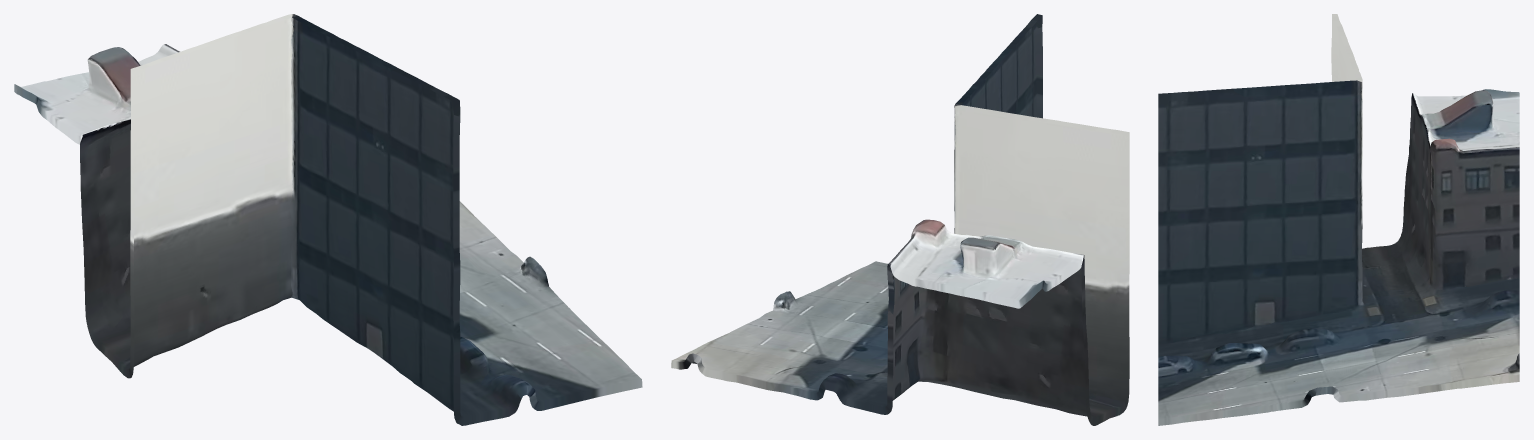
File: z20-167756-405235-h0-yup-uvflip-v3-world.glb
3 renders of one model, left to right at view 1: azimuth 30°, elevation 25°; view 2: azimuth 150°, elevation 25°; view 3: azimuth 270°, elevation 25°, orthographic. The views are drawn at different scales.
Bounding box in the file's own units: 30.2 × 24.08 × 30.32.
1 material, 1 textured.
